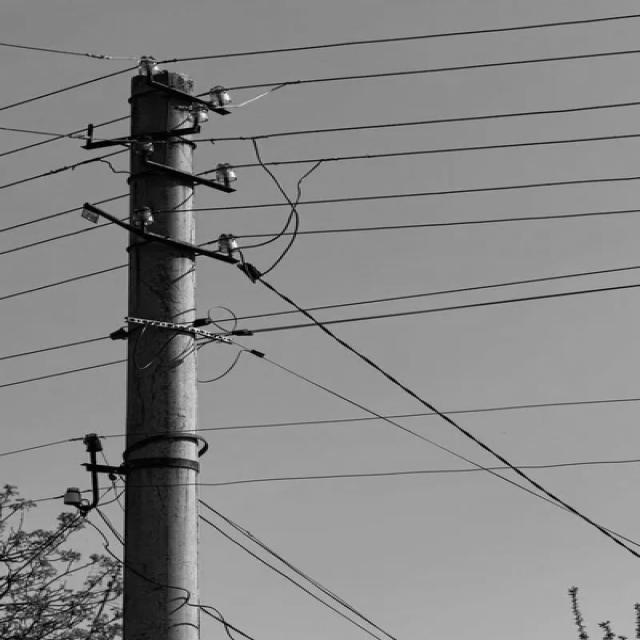Pole: (82, 62, 238, 639)
